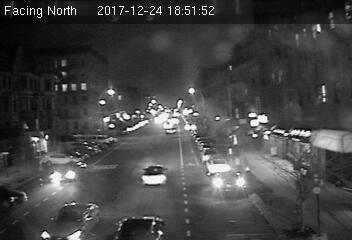car: (209, 172, 248, 195), (49, 160, 85, 180), (140, 165, 168, 186)
